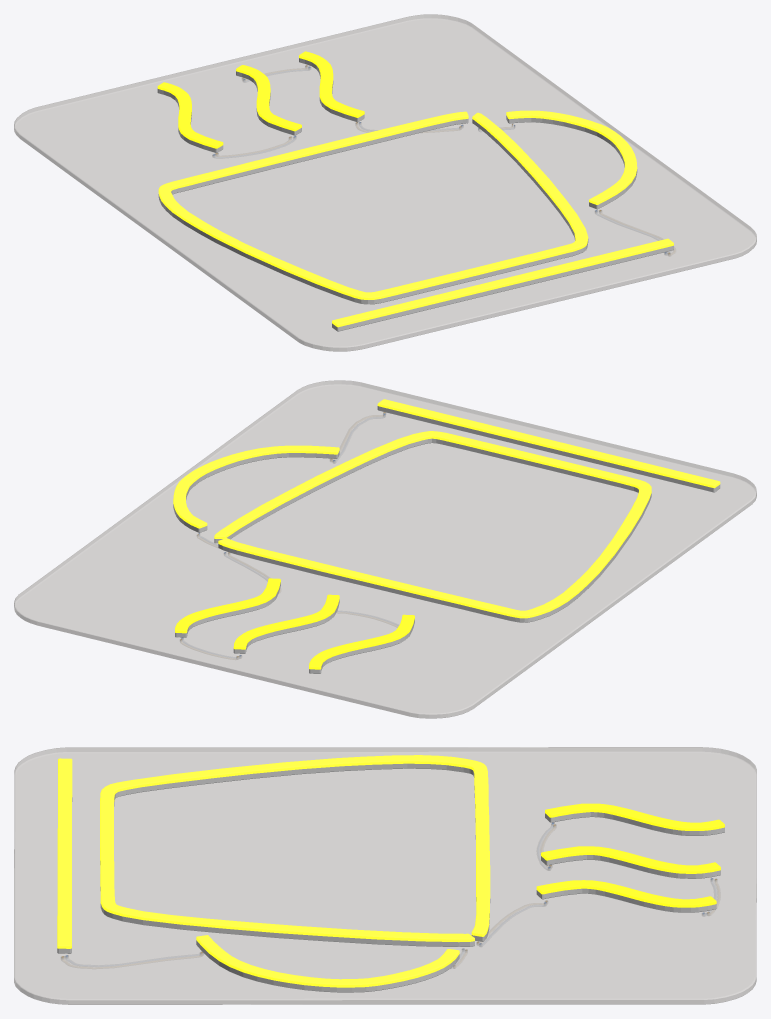
File: coffee_mug_AR.glb
3 renders of one model, top to bottom at view 1: azimuth 30°, elevation 25°; view 2: azimuth 150°, elevation 25°; view 3: azimuth 270°, elevation 25°, orthographic. The views are drawn at different scales.
Visible parts, largest first — view 1: Plane, Plane.001; view 2: Plane, Plane.001; view 3: Plane, Plane.001, Circle.006, Circle.007.
Part boxes in pixels (x1,y1,x2,y2): Plane: [14, 14, 756, 351]; Plane.001: [157, 51, 673, 331]; Plane: [14, 380, 756, 718]; Plane.001: [173, 399, 720, 673]; Plane: [14, 747, 756, 1004]; Plane.001: [57, 755, 724, 992]; Circle.006: [61, 824, 720, 968]; Circle.007: [65, 822, 716, 968].
Size of the model in its own units: 1.16 by 0.0372 by 1.44.
